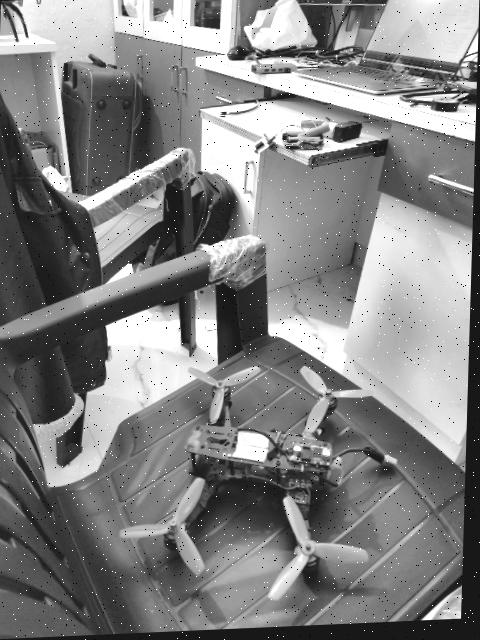drone: (118, 357, 407, 603)
